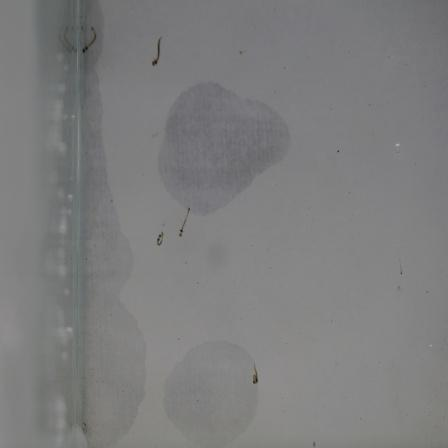Jentik-Nyamuk: (78, 22, 101, 57), (148, 32, 166, 70), (175, 202, 193, 240), (152, 226, 168, 252), (248, 360, 262, 388)
